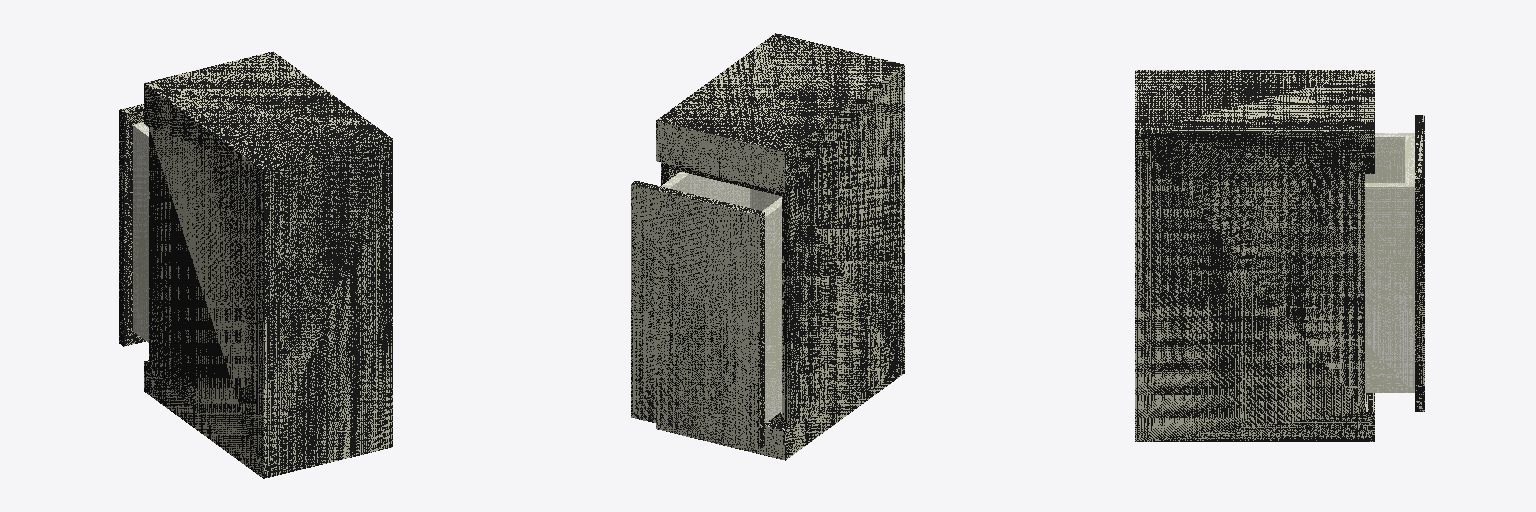
3 views of the same model, side by side, from view 1: azimuth 30°, elevation 25°; view 2: azimuth 150°, elevation 25°; view 3: azimuth 270°, elevation 25° (orthographic).
Parts seen in each view (by area): view 1: mesh2_mesh2-geometry, mesh1_mesh1-geometry; view 2: mesh2_mesh2-geometry, mesh1_mesh1-geometry; view 3: mesh2_mesh2-geometry, mesh1_mesh1-geometry.
Boxes of the visible parts, x1,y1,x2,y2 form: mesh2_mesh2-geometry: [144, 51, 392, 478]; mesh1_mesh1-geometry: [119, 104, 148, 346]; mesh2_mesh2-geometry: [656, 33, 904, 460]; mesh1_mesh1-geometry: [631, 172, 781, 448]; mesh2_mesh2-geometry: [1135, 70, 1374, 441]; mesh1_mesh1-geometry: [1365, 115, 1424, 411].
Size of the model in its own units: 0.3176 by 0.7226 by 0.614.
4 materials, 1 textured.